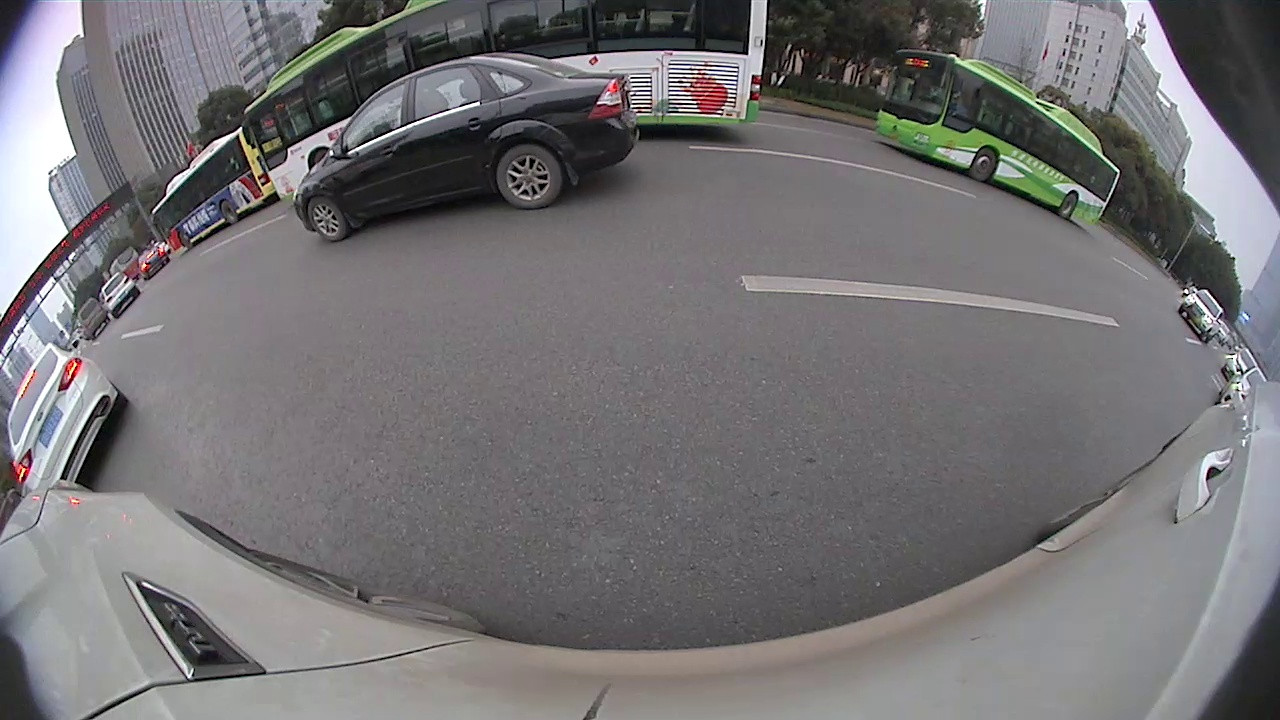bus: (242, 2, 768, 208), (872, 43, 1121, 240), (149, 127, 274, 260)
car: (292, 48, 643, 245), (5, 342, 124, 498)
front: (302, 196, 347, 243), (968, 145, 999, 181)
rear: (495, 141, 563, 208), (218, 198, 240, 228), (1058, 192, 1078, 218)
